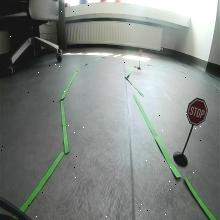stop: (186, 98, 208, 128)
